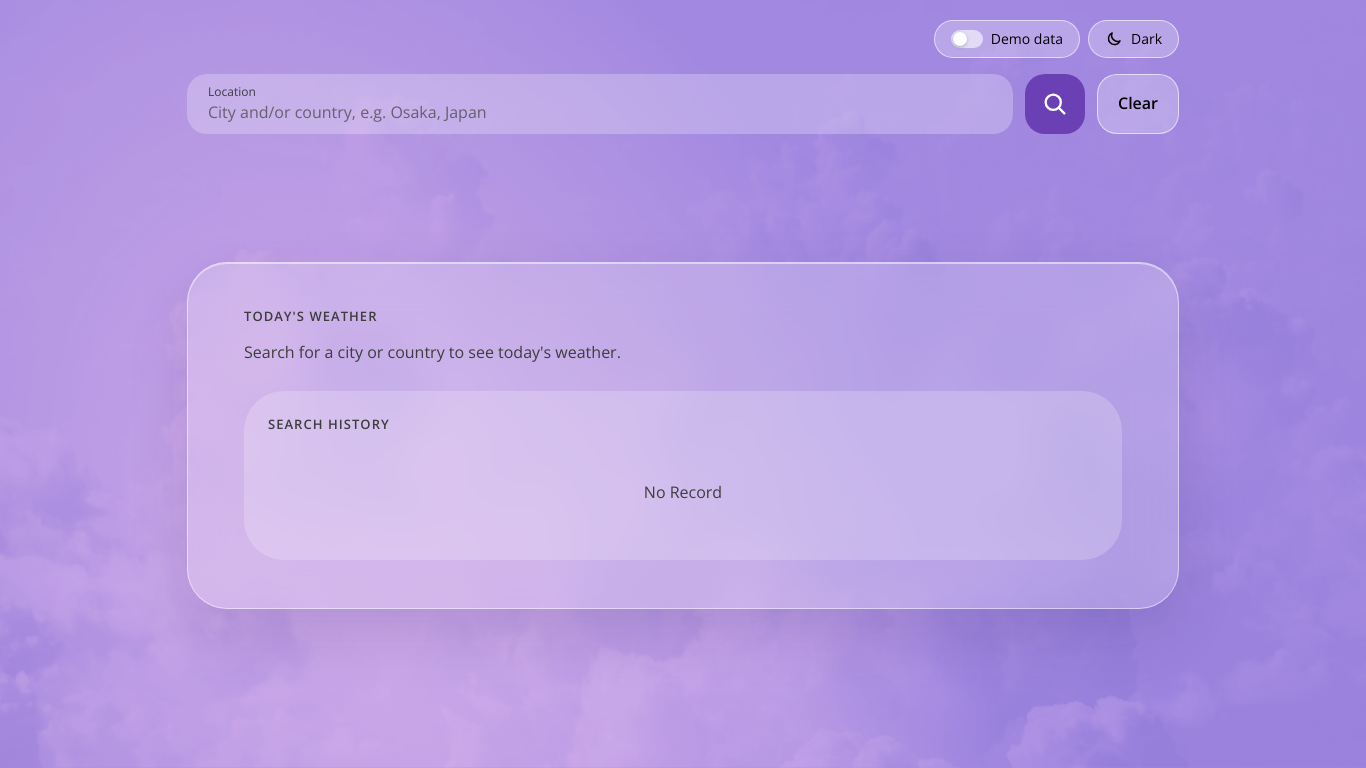
Test case: App › shows "Not found" for an invalid city and does not add it to history
The image size is (1366, 768).
In the dropdown labelled "Location": (600, 112) top-left (208, 101), bottom-right (992, 123), type "xxx"
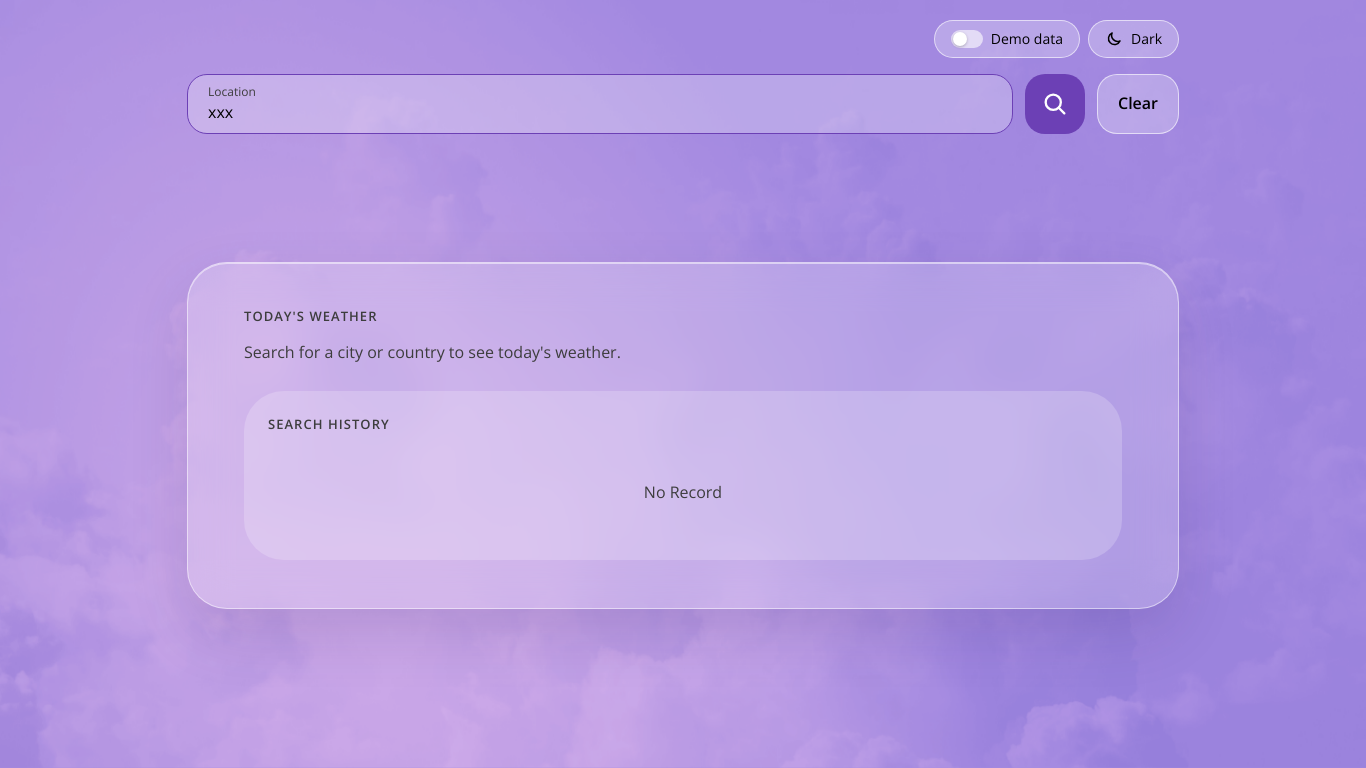
Click the button named "Search": (1055, 104) top-left (1025, 74), bottom-right (1085, 134)
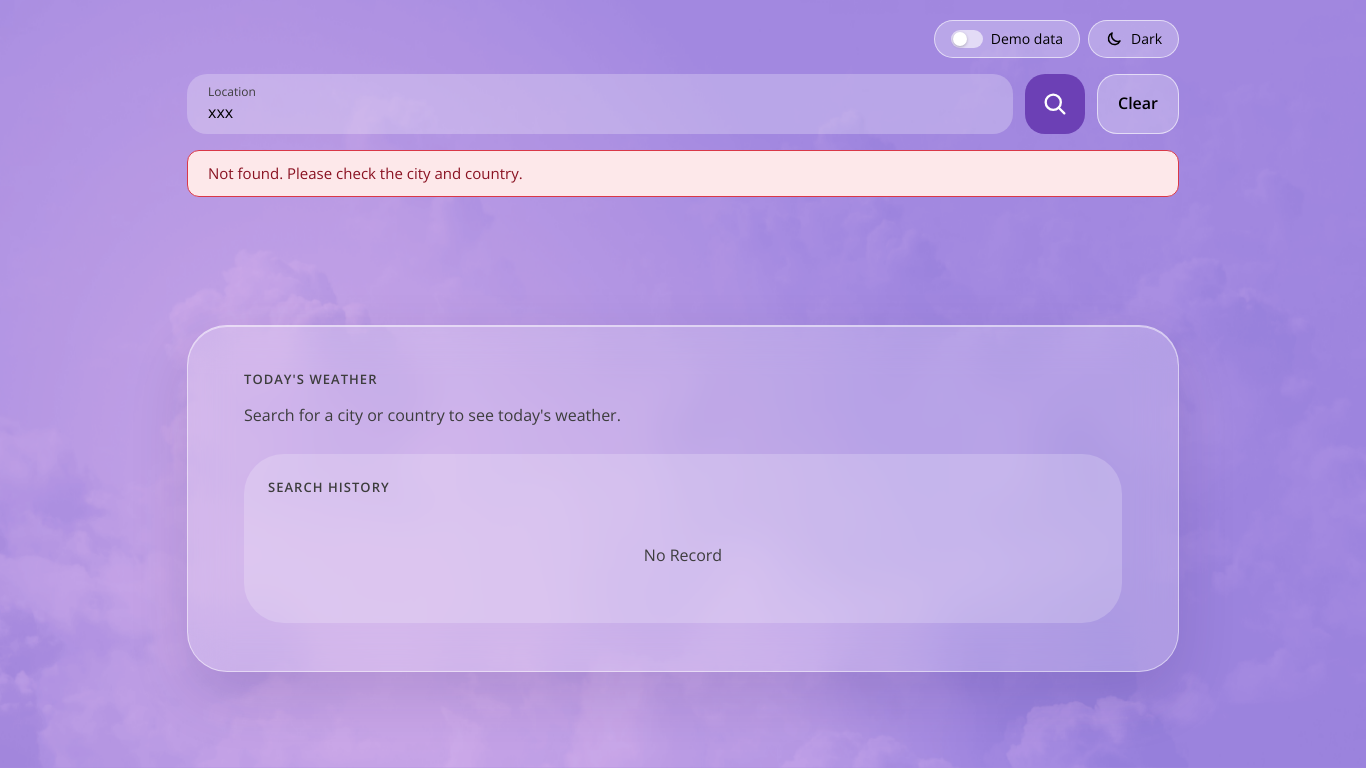
Check: the text "No Record" is shown, box top-left (644, 544), bottom-right (722, 566)
Check: the message shows "Not found", box top-left (208, 163), bottom-right (523, 183)
